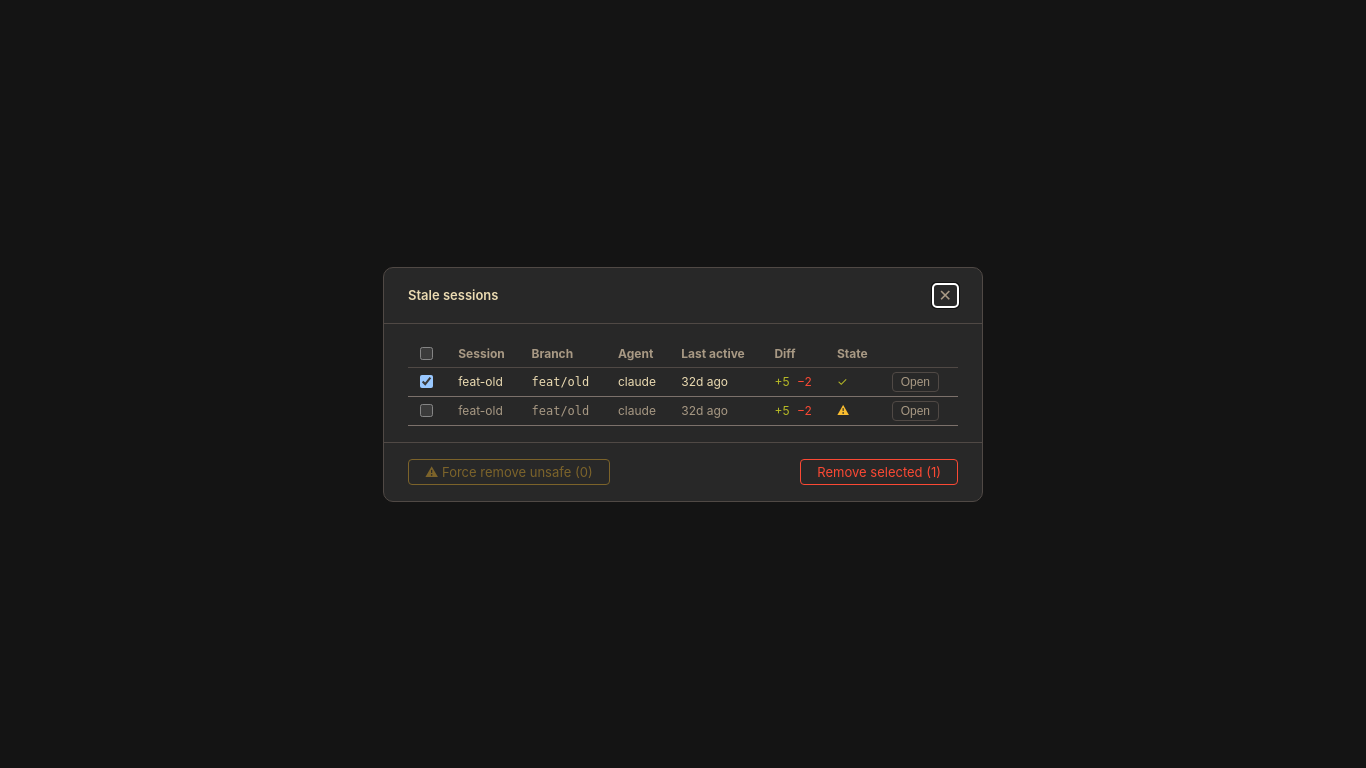
Scenario: Select all checks all rows including unsafe
Click the checkbox named "select all" at (426, 353), box [420,346,433,360]
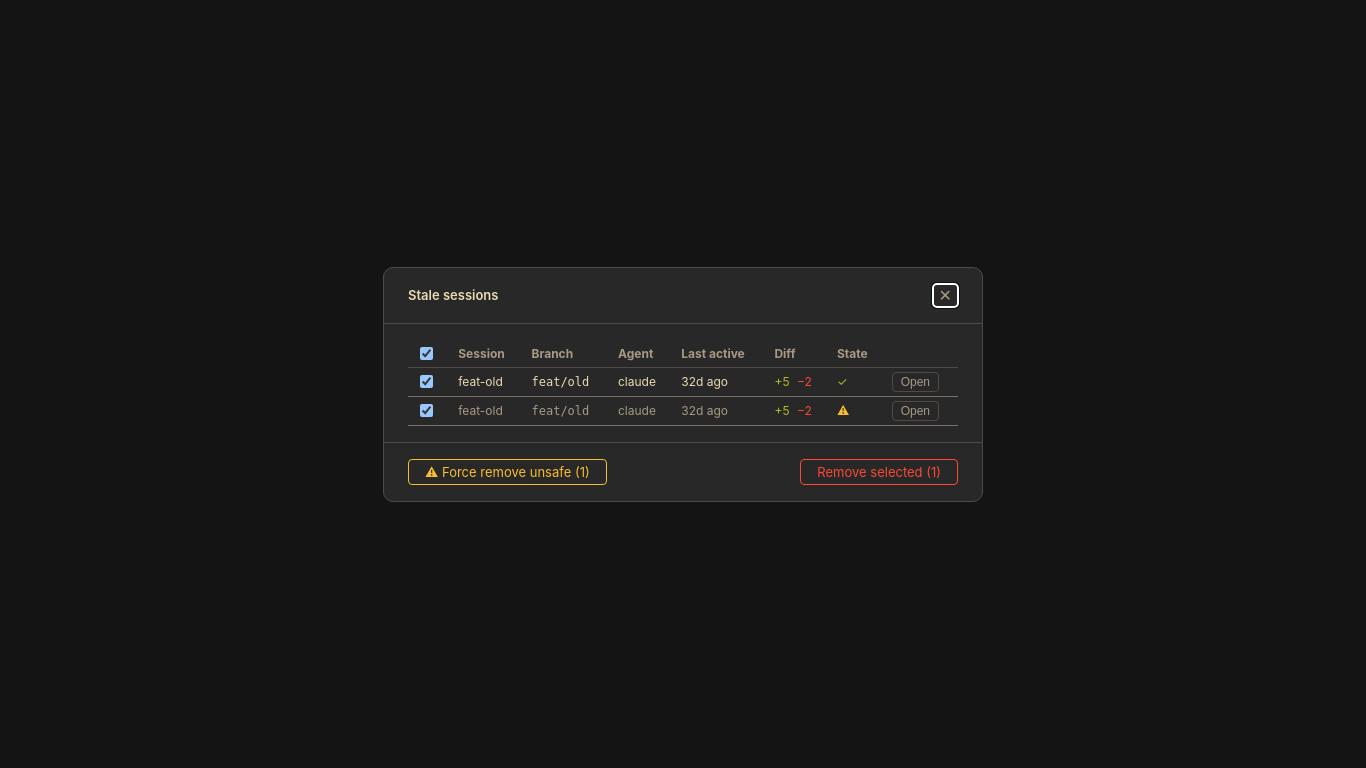
Expected: the checkbox with test id "row-check-ws-1" is checked, [420,375,433,388]
Expected: the checkbox with test id "row-check-ws-2" is checked, [420,404,433,417]
